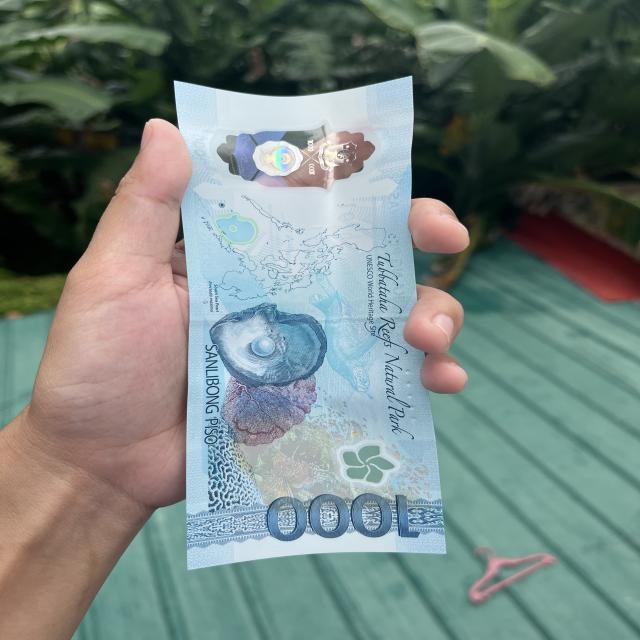clear_window: (177, 113, 411, 193)
sampaguita: (336, 438, 402, 486)
security_thread: (189, 300, 417, 315)
